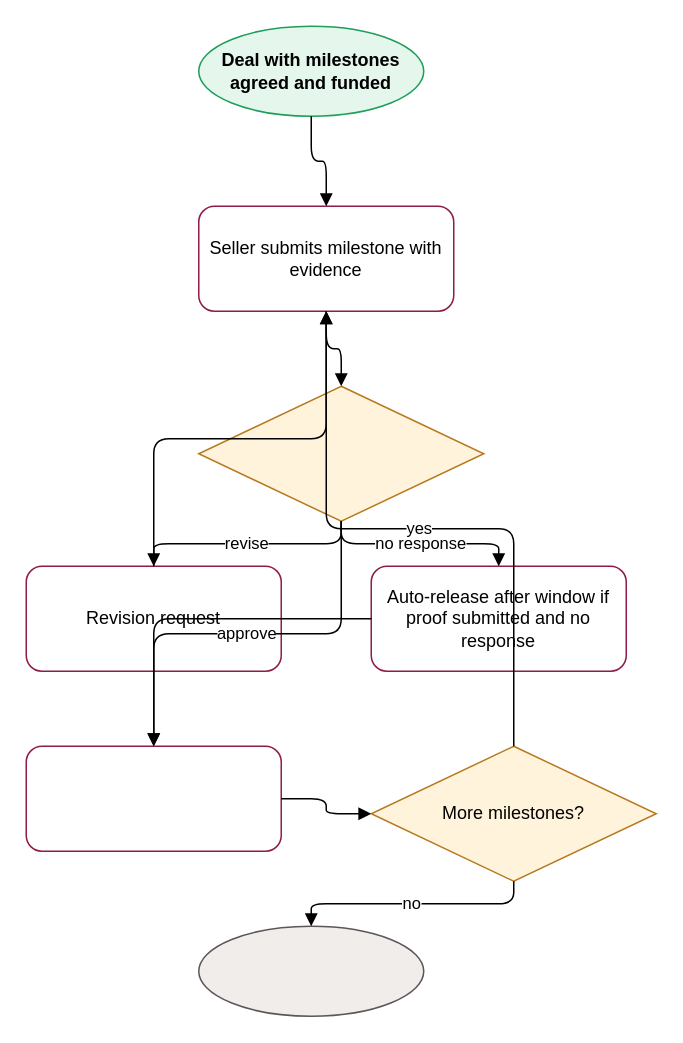
Image size: 683x1043. Some labels were removed from this diagram. The shapes that lost their labels are listed below. From the top down, each one's box as (x1, y1, x2, y2) in pixels, then its label:
(197, 385, 484, 521): Buyer approves within window?
(25, 745, 281, 851): Release milestone amount
(197, 925, 424, 1016): Deal complete
